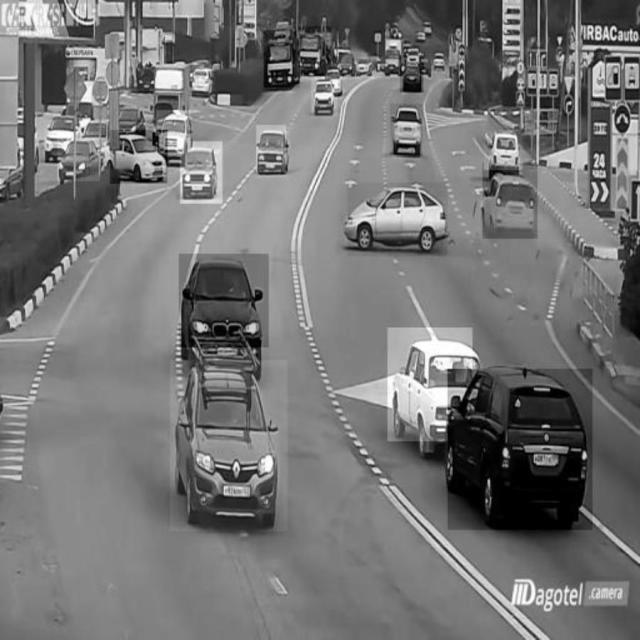vehicle: (448, 369, 592, 529), (170, 361, 288, 531), (388, 328, 472, 441), (179, 255, 269, 348), (348, 183, 448, 256), (483, 163, 538, 239), (109, 130, 167, 184), (179, 142, 223, 204), (58, 132, 100, 182), (264, 31, 300, 88), (389, 105, 423, 157), (298, 26, 333, 76), (156, 110, 190, 156), (484, 130, 522, 170), (44, 105, 74, 155), (257, 125, 287, 172), (312, 76, 338, 116), (400, 56, 424, 93), (193, 60, 211, 95)
